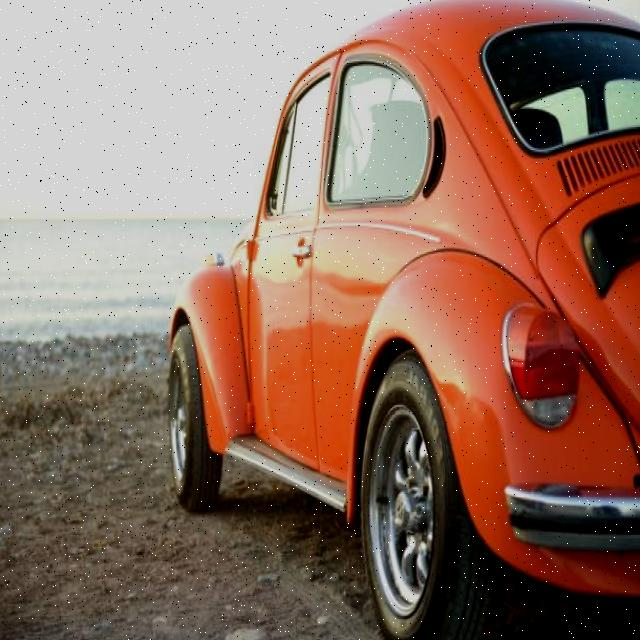car: (169, 0, 640, 640)
